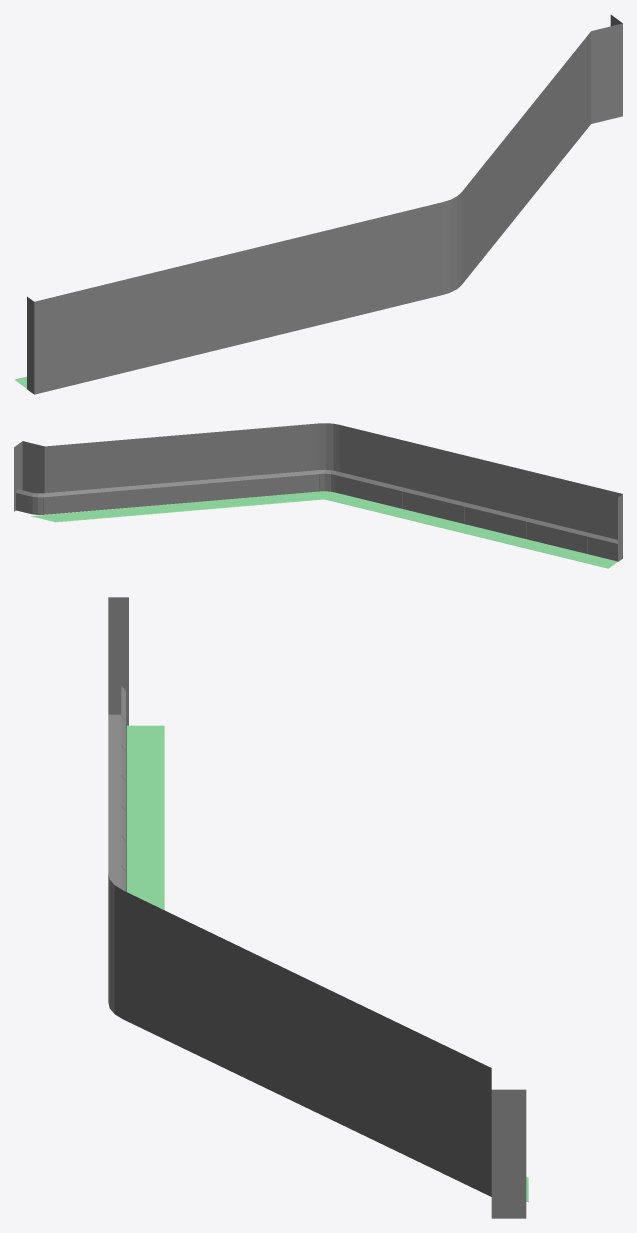
The picture shows the model from 3 angles, top to bottom: view 1: azimuth 30°, elevation 25°; view 2: azimuth 150°, elevation 25°; view 3: azimuth 270°, elevation 25°; orthographic projection. The views are drawn at different scales.
Parts seen in each view (by area): view 1: RT+ V01 T02 COLL, RT+ V01 T02 RubW; view 2: RT+ V01 T02 COLL, RT+ V01 T02 Fence Shared, RT+ V01 T02 SR, RT+ V01 T02 Fence HI; view 3: RT+ V01 T02 COLL, RT+ V01 T02 SR, RT+ V01 T02 RubW, RT+ V01 T02 Fence Shared.
Boxes of the visible parts, left/top/right/bottom form: RT+ V01 T02 COLL: left=27, top=14, right=622, bottom=390; RT+ V01 T02 RubW: left=29, top=278, right=460, bottom=394; RT+ V01 T02 COLL: left=14, top=423, right=622, bottom=561; RT+ V01 T02 Fence Shared: left=16, top=469, right=617, bottom=561; RT+ V01 T02 SR: left=31, top=491, right=617, bottom=568; RT+ V01 T02 Fence HI: left=16, top=470, right=588, bottom=553; RT+ V01 T02 COLL: left=108, top=597, right=526, bottom=1218; RT+ V01 T02 SR: left=126, top=725, right=528, bottom=1202; RT+ V01 T02 RubW: left=108, top=714, right=121, bottom=888; RT+ V01 T02 Fence Shared: left=121, top=686, right=125, bottom=891.
Size of the model in its own units: 90 by 11 by 32.47.
